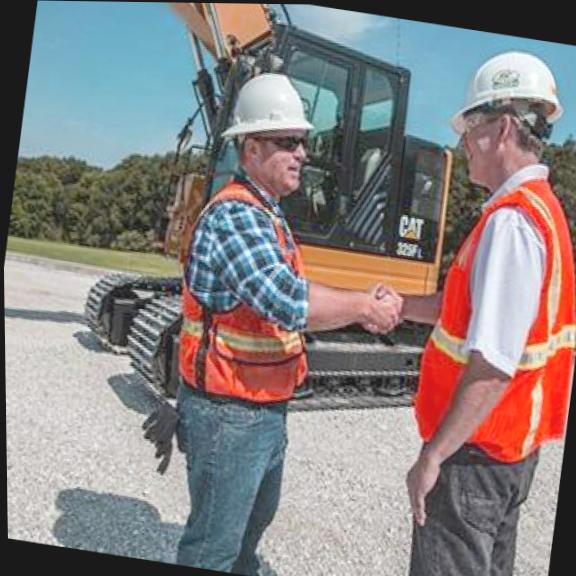safety_vest: (393, 156, 576, 469), (160, 177, 338, 413)
